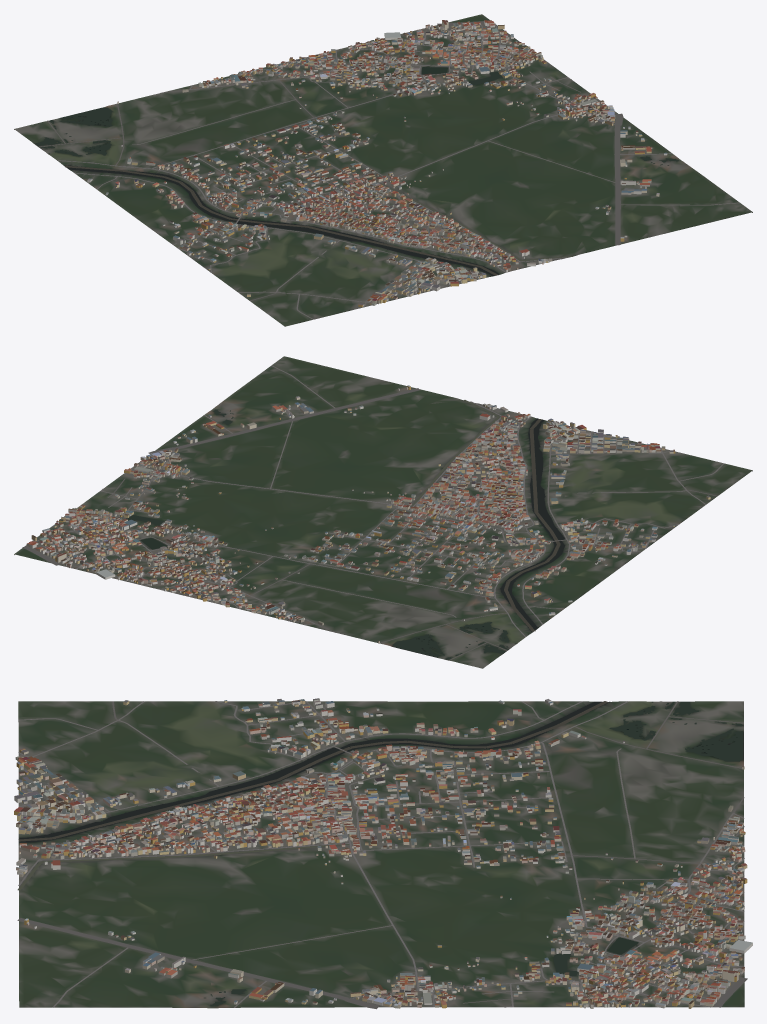
3 renders of one model, top to bottom at view 1: azimuth 30°, elevation 25°; view 2: azimuth 150°, elevation 25°; view 3: azimuth 270°, elevation 25°, orthographic. The views are drawn at different scales.
Visible parts, largest first — view 1: ground, buildings, roads, water; view 2: ground, buildings, roads, water; view 3: ground, buildings, roads, water.
Part boxes in pixels (x1=…): ground: x1=14, y1=14, x2=752, y2=326; buildings: x1=87, y1=20, x2=667, y2=307; roads: x1=39, y1=20, x2=739, y2=319; water: x1=34, y1=67, x2=678, y2=275; ground: x1=14, y1=356, x2=752, y2=668; buildings: x1=26, y1=385, x2=710, y2=643; roads: x1=22, y1=365, x2=724, y2=660; water: x1=126, y1=400, x2=565, y2=659; ground: x1=18, y1=701, x2=744, y2=1008; buildings: x1=14, y1=698, x2=752, y2=1008; roads: x1=17, y1=701, x2=747, y2=1009; water: x1=17, y1=701, x2=743, y2=1006.
Bounding box in the file's own units: 1414 × 23.38 × 1428.
